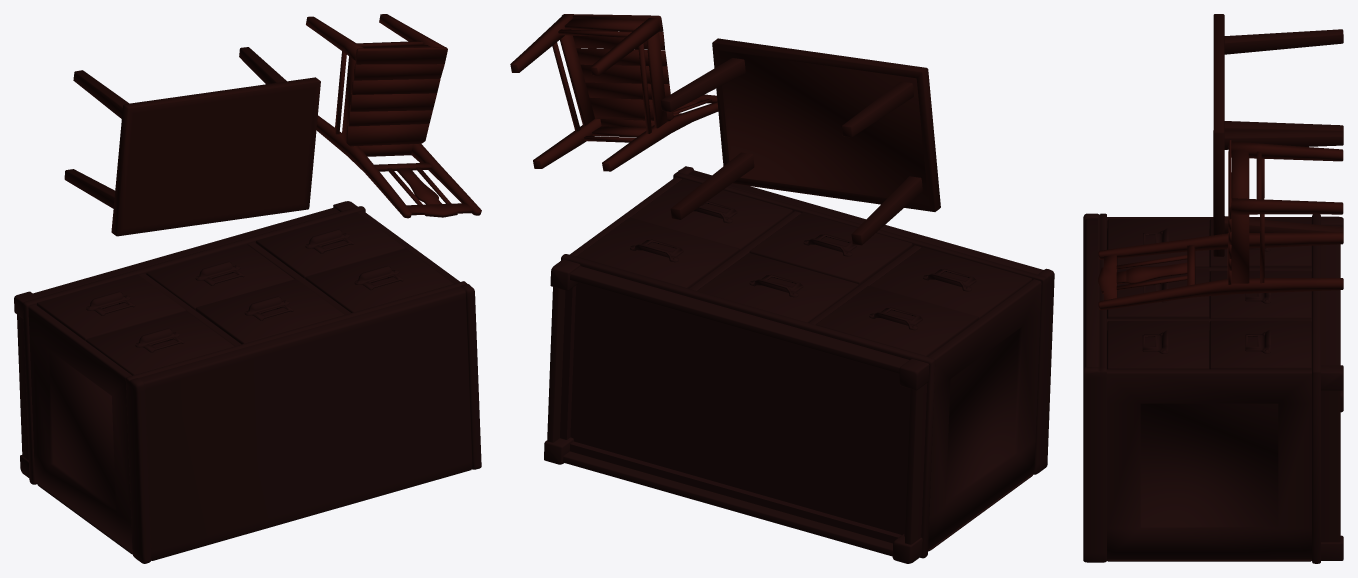
Rendered from scene_0005_diffuse.obj.
3 views of the same model, side by side, from view 1: azimuth 30°, elevation 25°; view 2: azimuth 150°, elevation 25°; view 3: azimuth 270°, elevation 25° (orthographic). The views are drawn at different scales.
Visible parts, largest first — view 1: diffuse_cabinet_01, diffuse_table_02, diffuse_chair_03; view 2: diffuse_cabinet_01, diffuse_table_02, diffuse_chair_03; view 3: diffuse_cabinet_01, diffuse_chair_03, diffuse_table_02.
Part boxes in pixels (x1,y1,x2,y2): diffuse_cabinet_01: (14,201,481,563); diffuse_table_02: (64,47,320,236); diffuse_chair_03: (306,14,481,218); diffuse_cabinet_01: (544,166,1054,563); diffuse_table_02: (661,38,940,245); diffuse_chair_03: (510,14,718,171); diffuse_cabinet_01: (1083,213,1343,563); diffuse_chair_03: (1098,140,1343,310); diffuse_table_02: (1213,14,1343,256).
Bounding box in the file's own units: 167 × 167 × 94.5.
